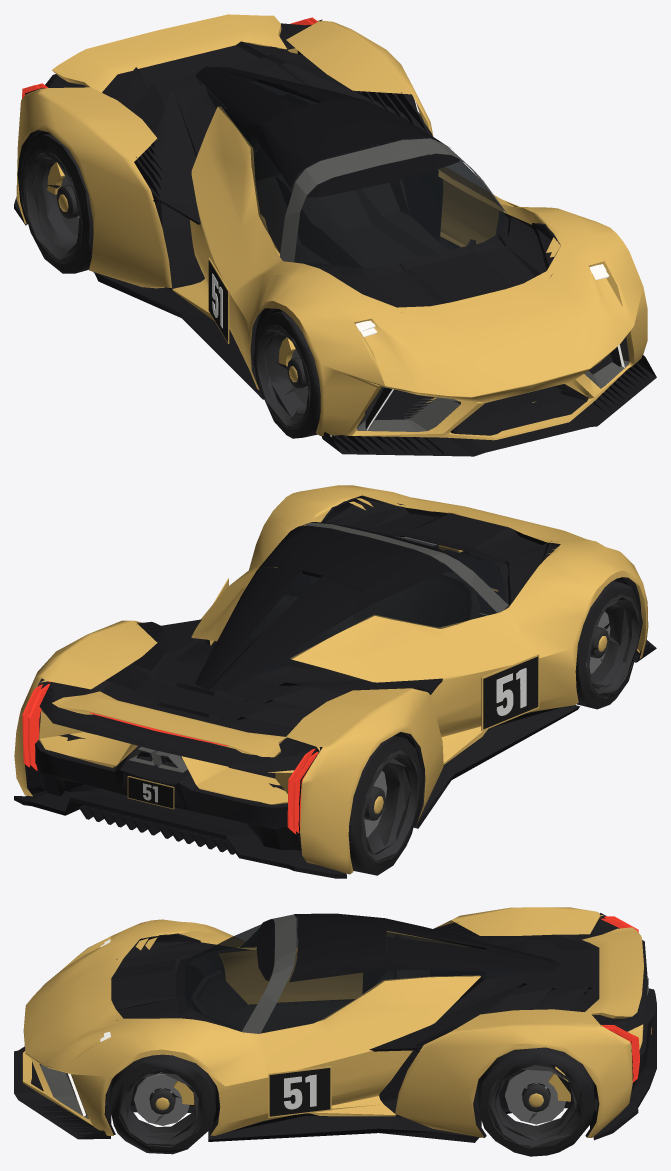
The model's file is surge-lmp.glb.
3 views of the same model, one above another, from view 1: azimuth 30°, elevation 25°; view 2: azimuth 150°, elevation 25°; view 3: azimuth 270°, elevation 25° (orthographic). The views are drawn at different scales.
Visible parts, largest first — view 1: Body, Wheel_RR, Wheel_FR; view 2: Body, Wheel_RR, Wheel_FR; view 3: Body, Wheel_RL, Wheel_FL.
Boxes of the visible parts, x1,y1,x2,y2 form: Body: (14,14,656,456); Wheel_RR: (19,133,93,273); Wheel_FR: (253,311,320,438); Body: (14,485,656,878); Wheel_RR: (348,736,422,875); Wheel_FR: (575,580,642,709); Body: (14,907,656,1142); Wheel_RL: (477,1047,594,1156); Wheel_FL: (109,1054,215,1154).
Bounding box in the file's own units: 2.43 × 1.32 × 4.85.
6 materials, 3 textured.
